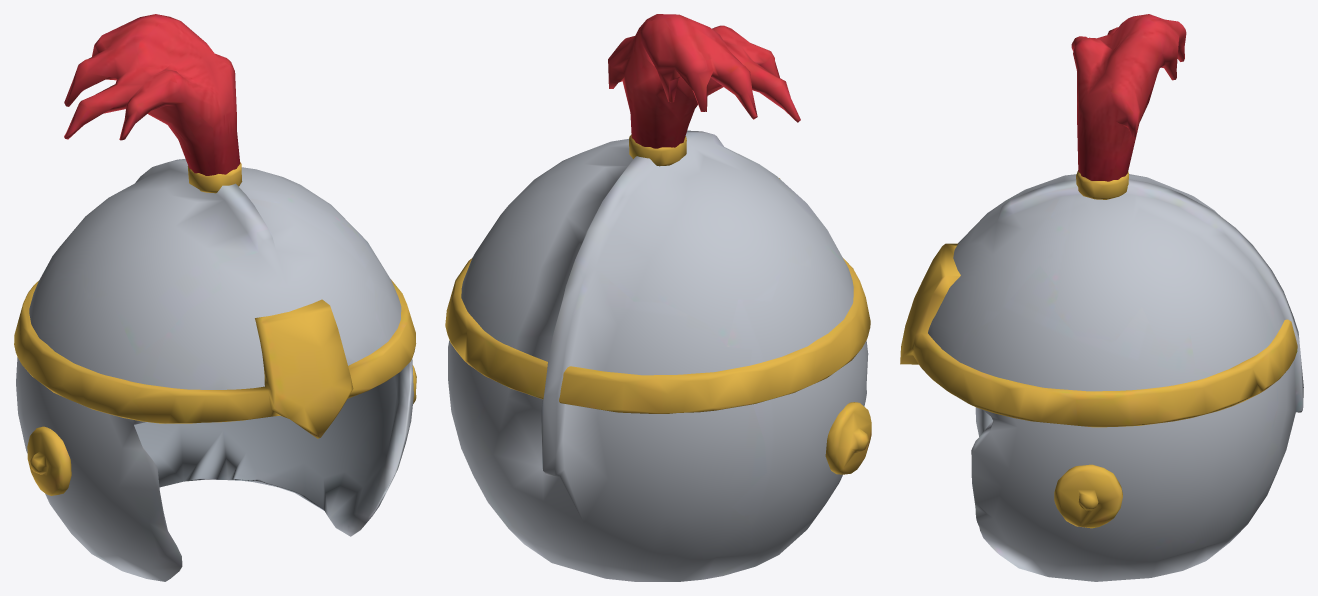
The model's file is knight-helm.glb.
3 views of the same model, side by side, from view 1: azimuth 30°, elevation 25°; view 2: azimuth 150°, elevation 25°; view 3: azimuth 270°, elevation 25° (orthographic). The views are drawn at different scales.
Parts seen in each view (by area): view 1: helm; view 2: helm; view 3: helm.
Part boxes in pixels (box(x1,y1,x2,y2)): helm: box(14, 14, 416, 581); helm: box(445, 14, 871, 581); helm: box(900, 14, 1303, 581).
Size of the model in its own units: 0.5431 by 0.6872 by 0.5131.
Materials: 1 (1 with a texture image).
